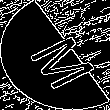M_NE: (14, 22, 96, 88)
